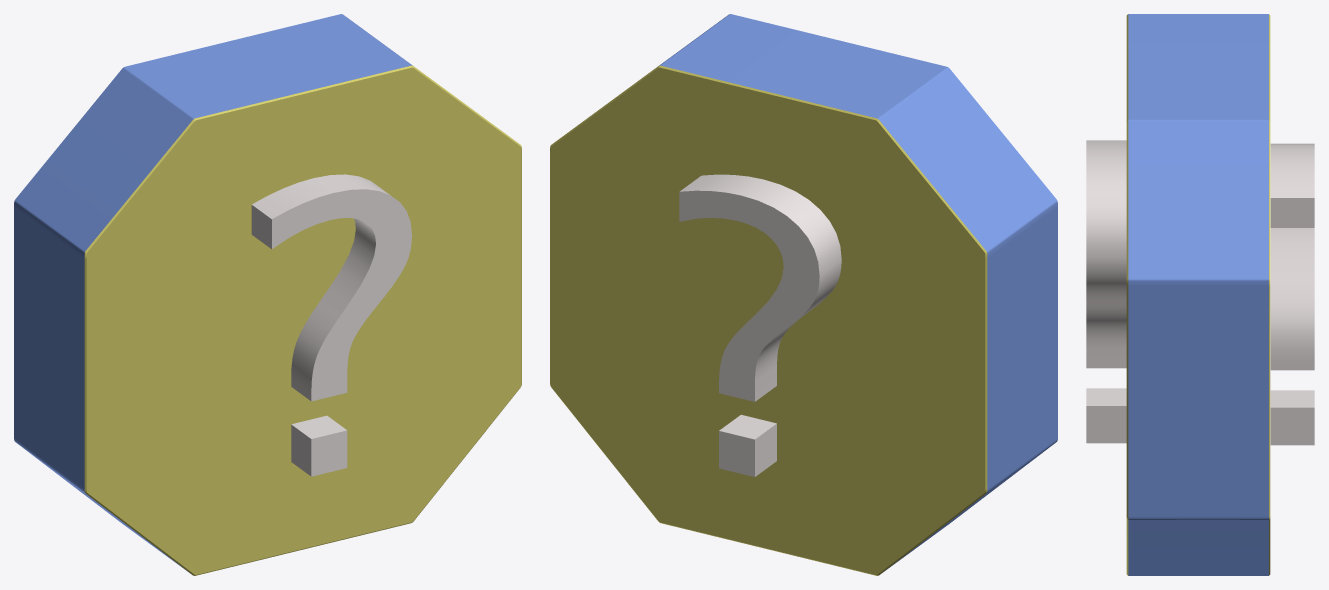
Rendered from QuestionMark.fbx.
The picture shows the model from 3 angles, left to right: view 1: azimuth 30°, elevation 25°; view 2: azimuth 150°, elevation 25°; view 3: azimuth 270°, elevation 25°; orthographic projection.
Parts seen in each view (by area): view 1: typeMesh1; view 2: typeMesh1; view 3: typeMesh1.
Boxes of the visible parts, x1,y1,x2,y2 form: typeMesh1: (14, 14, 521, 575); typeMesh1: (550, 14, 1057, 575); typeMesh1: (1086, 14, 1314, 575).
Bounding box in the file's own units: 1 × 1 × 0.4529.
